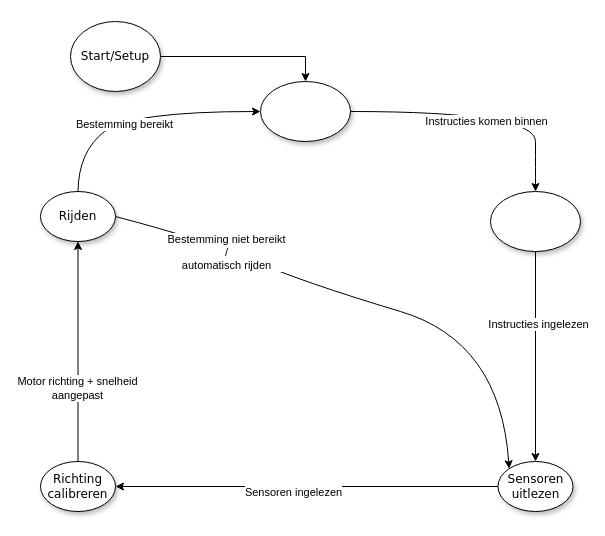
Some shapes in this 605 by 536 pixel diagram are drawn without their labels. Here are the shapes that lost their labels. From the top down, the centre of each, then its label:
the point at 306,112: Idle
the point at 536,222: NodeRED instructies inlezen
